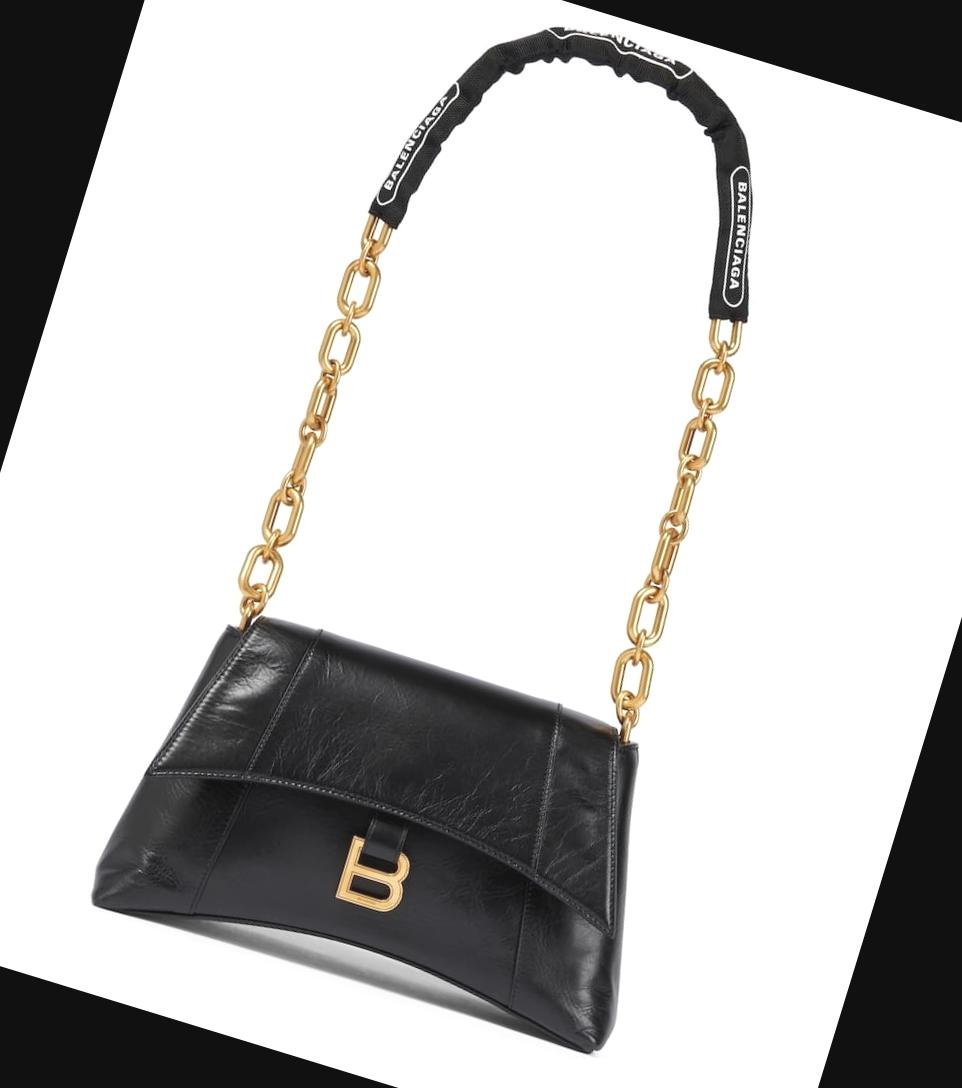BALENCIAGA: (382, 85, 448, 198), (708, 180, 770, 292), (563, 18, 679, 65)
